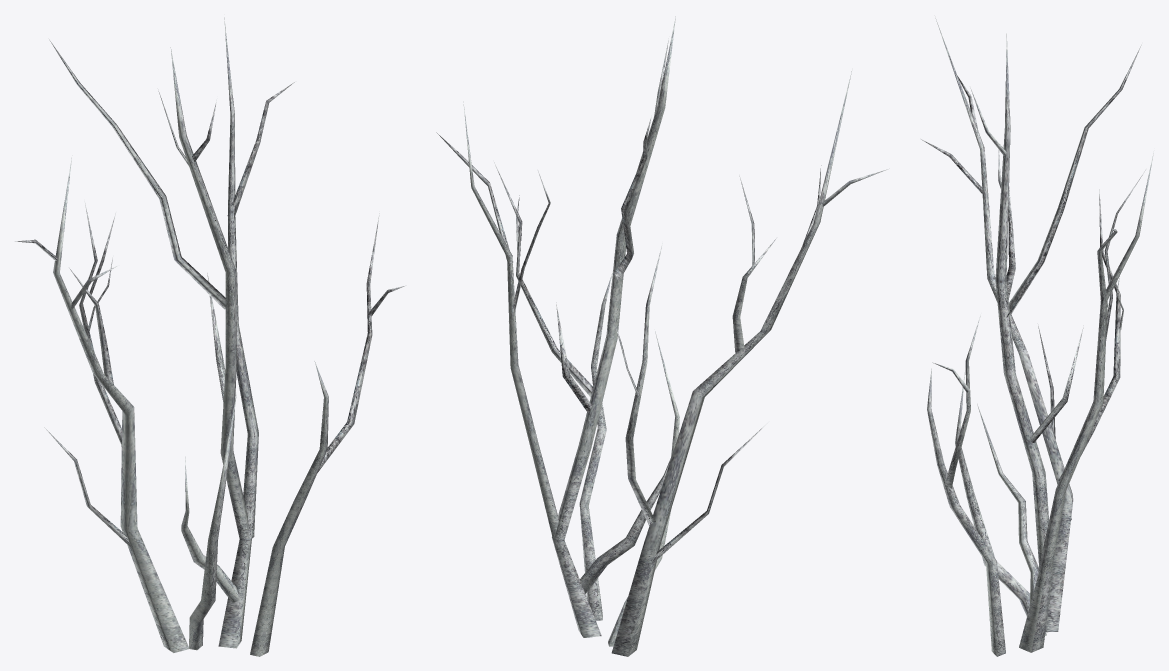
Rendered from S_Tree_White021.FBX.
3 views of the same model, side by side, from view 1: azimuth 30°, elevation 25°; view 2: azimuth 150°, elevation 25°; view 3: azimuth 270°, elevation 25° (orthographic). The views are drawn at different scales.
Visible parts, largest first — view 1: S_Tree_White021; view 2: S_Tree_White021; view 3: S_Tree_White021.
Boxes of the visible parts, <box> form: S_Tree_White021: <box>15,17,406,656</box>; S_Tree_White021: <box>436,16,889,656</box>; S_Tree_White021: <box>921,18,1153,656</box>.
Bounding box in the file's own units: 626 × 358 × 980.
